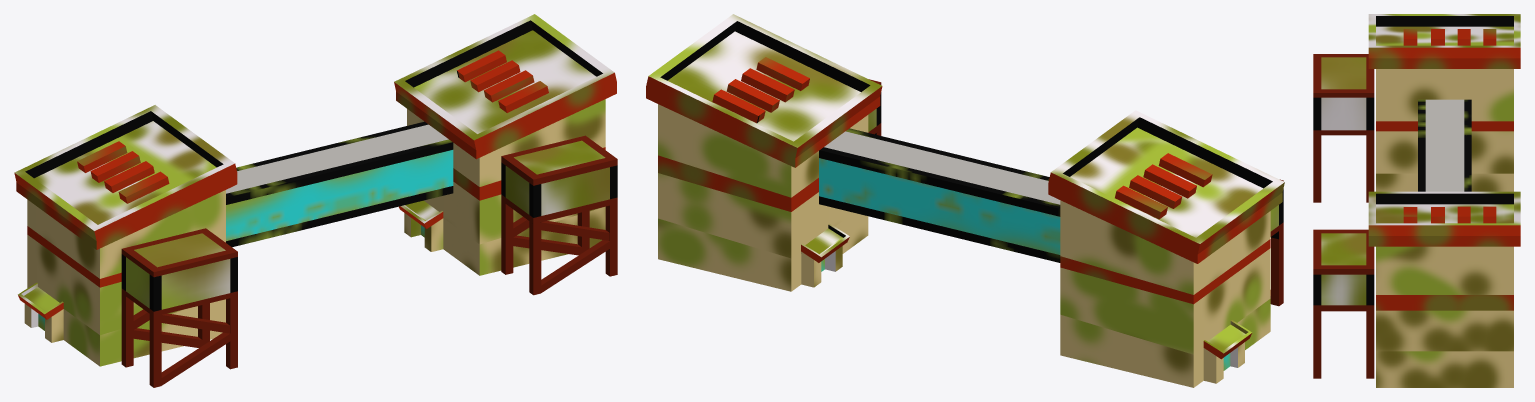
The model's file is house4.fbx.
3 views of the same model, side by side, from view 1: azimuth 30°, elevation 25°; view 2: azimuth 150°, elevation 25°; view 3: azimuth 270°, elevation 25° (orthographic). The views are drawn at different scales.
Visible parts, largest first — view 1: Cube.004; view 2: Cube.004; view 3: Cube.004.
Part boxes in pixels (<box>): Cube.004: <box>14,14,617,387</box>; Cube.004: <box>646,14,1284,387</box>; Cube.004: <box>1313,14,1520,387</box>.
Size of the model in its own units: 21.78 by 6.9 by 7.74.
Materials: 1 (1 with a texture image).
